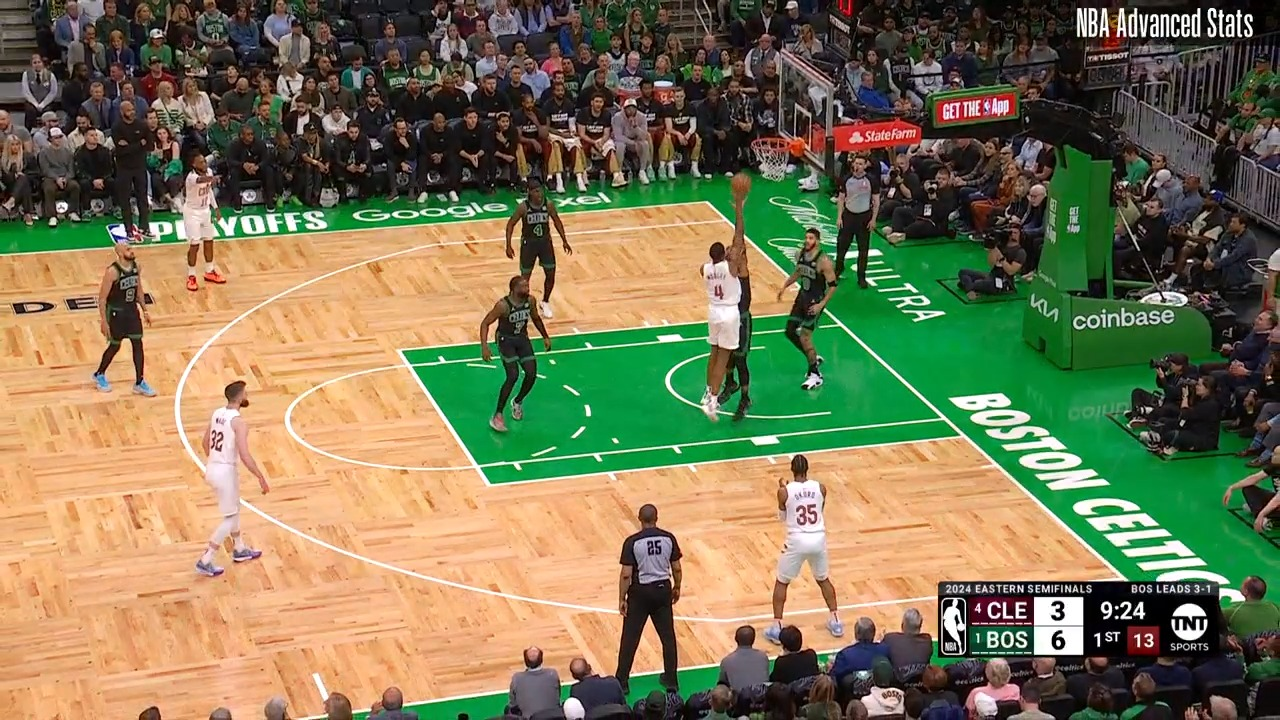basketball: (728, 170, 753, 198)
